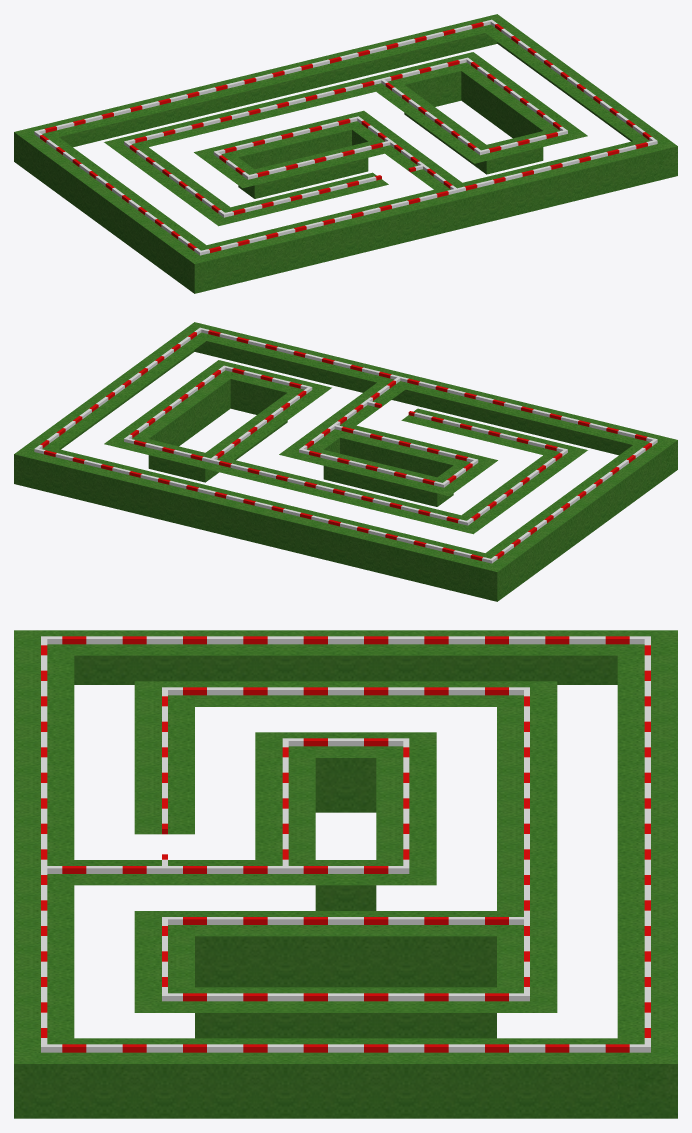
Rendered from circuit_1_G.fbx.
The picture shows the model from 3 angles, top to bottom: view 1: azimuth 30°, elevation 25°; view 2: azimuth 150°, elevation 25°; view 3: azimuth 270°, elevation 25°; orthographic projection. The views are drawn at different scales.
Visible parts, largest first — view 1: polySurface1541; view 2: polySurface1541; view 3: polySurface1541.
Part boxes in pixels (x1,y1,x2,y2): polySurface1541: (14,14,677,293); polySurface1541: (14,322,677,601); polySurface1541: (14,630,677,1118).
Size of the model in its own units: 850 by 55 by 550.
3 materials, 1 textured.
